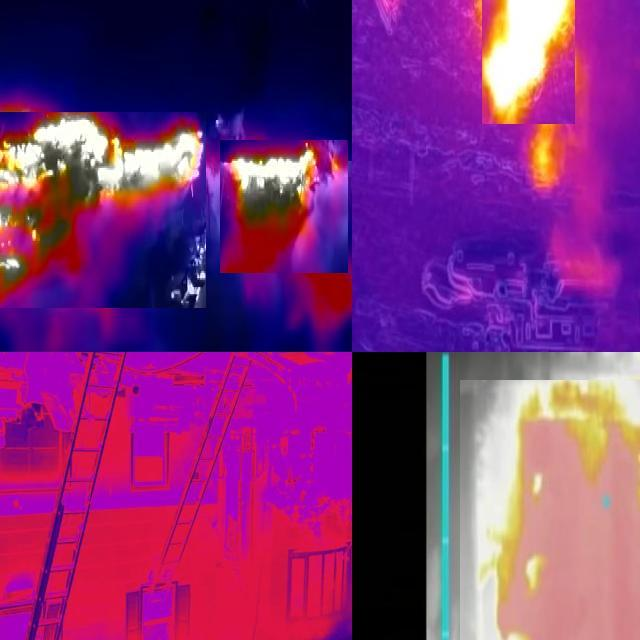fire: (461, 381, 640, 640), (1, 113, 207, 309), (221, 141, 349, 274), (483, 1, 576, 125)
